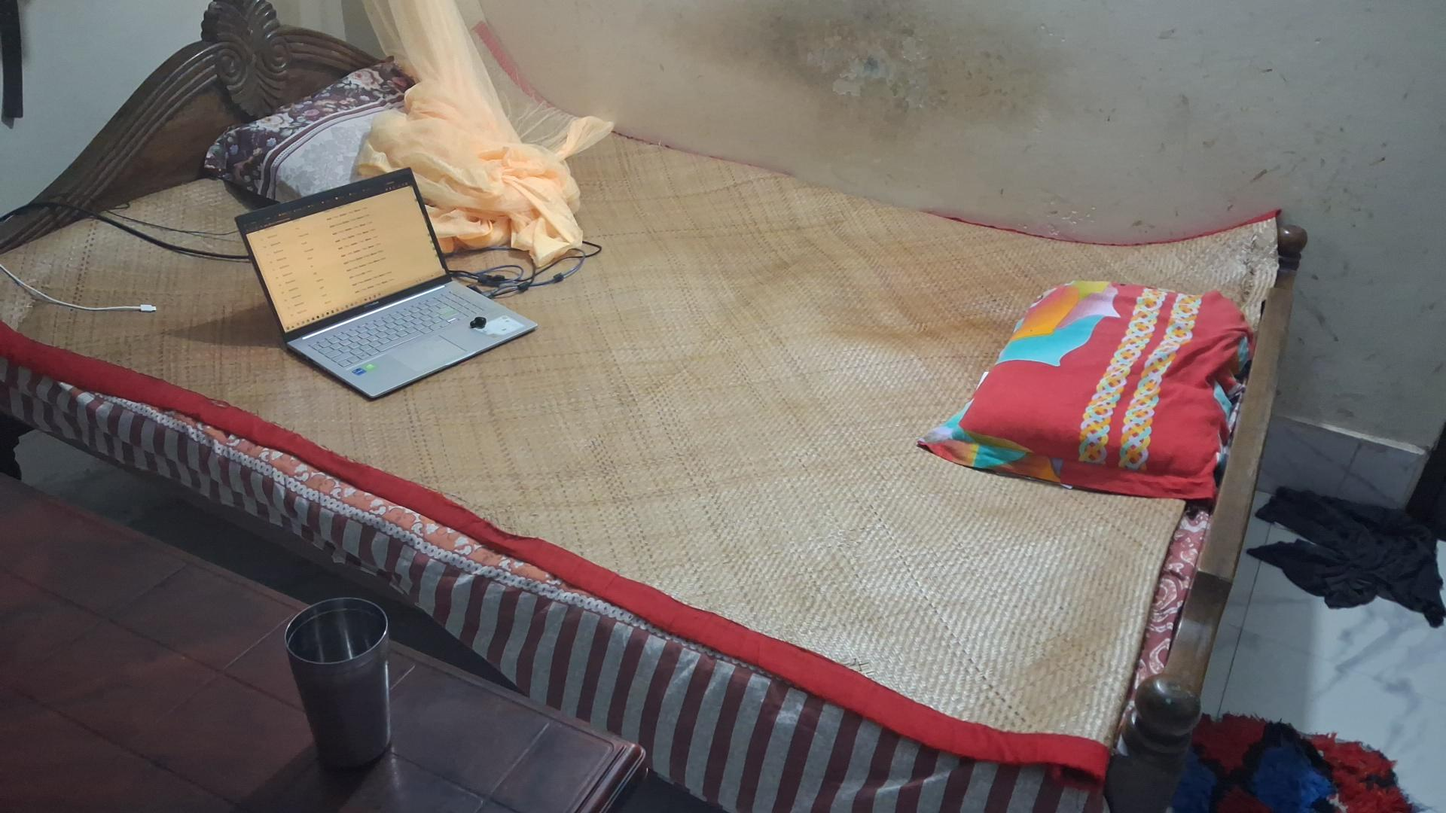Glass: (284, 596, 393, 772)
Laptop: (234, 167, 539, 401)
Pillow: (922, 285, 1250, 503)
